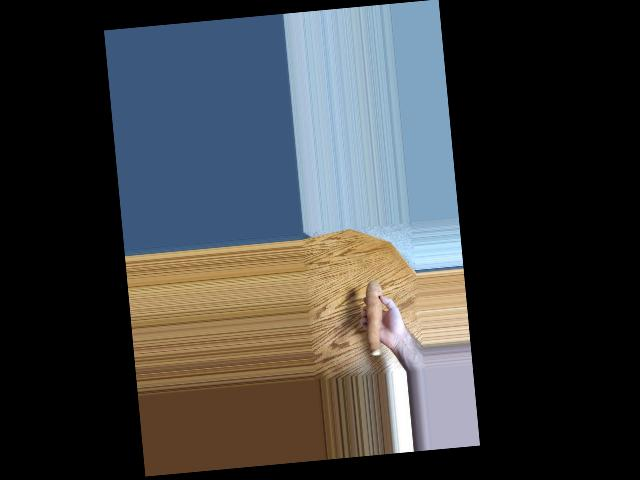sweet_potato: (358, 280, 383, 350)
